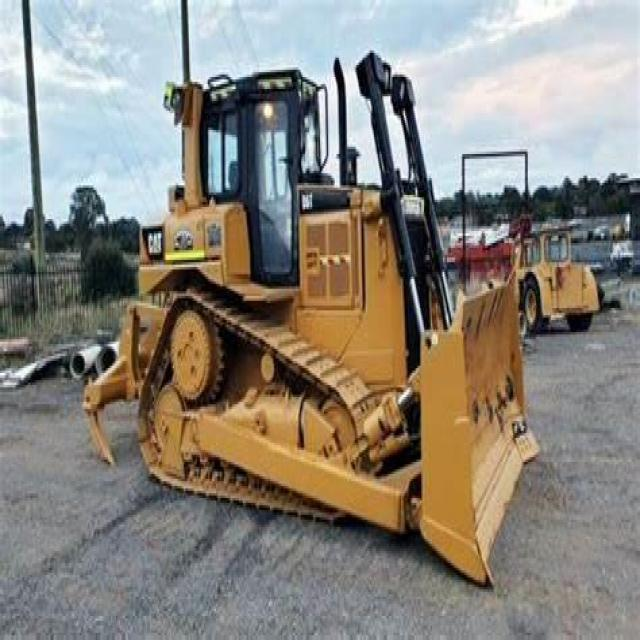Bulldozer: (73, 31, 562, 592)
